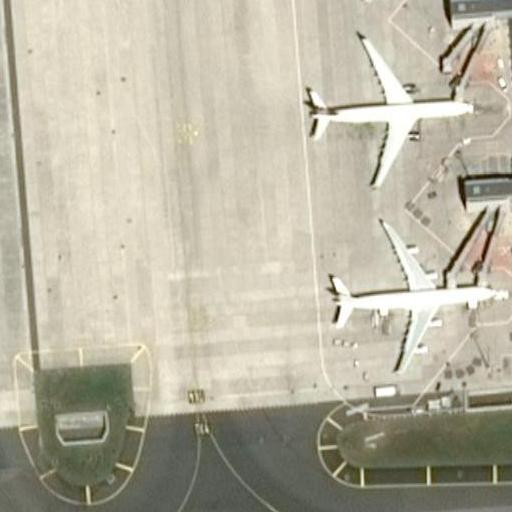Aircraft: (303, 31, 477, 186), (318, 217, 504, 362)
